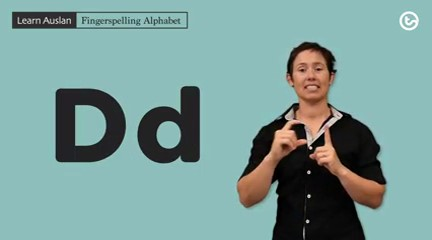D: (269, 113, 344, 173)
